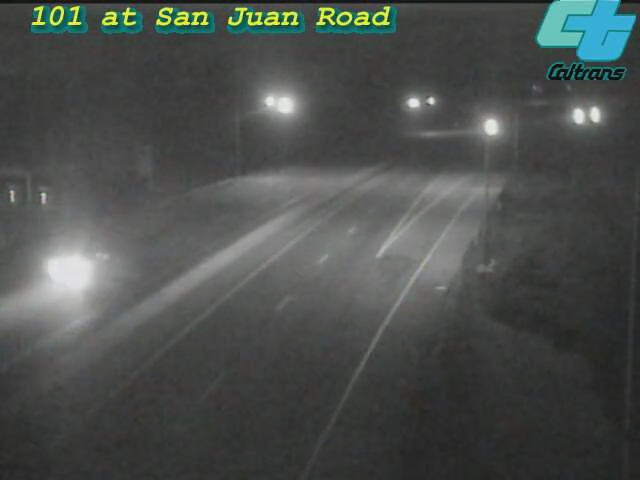vehicle: (28, 231, 108, 311), (469, 101, 519, 151), (549, 91, 599, 141), (569, 90, 619, 140)
